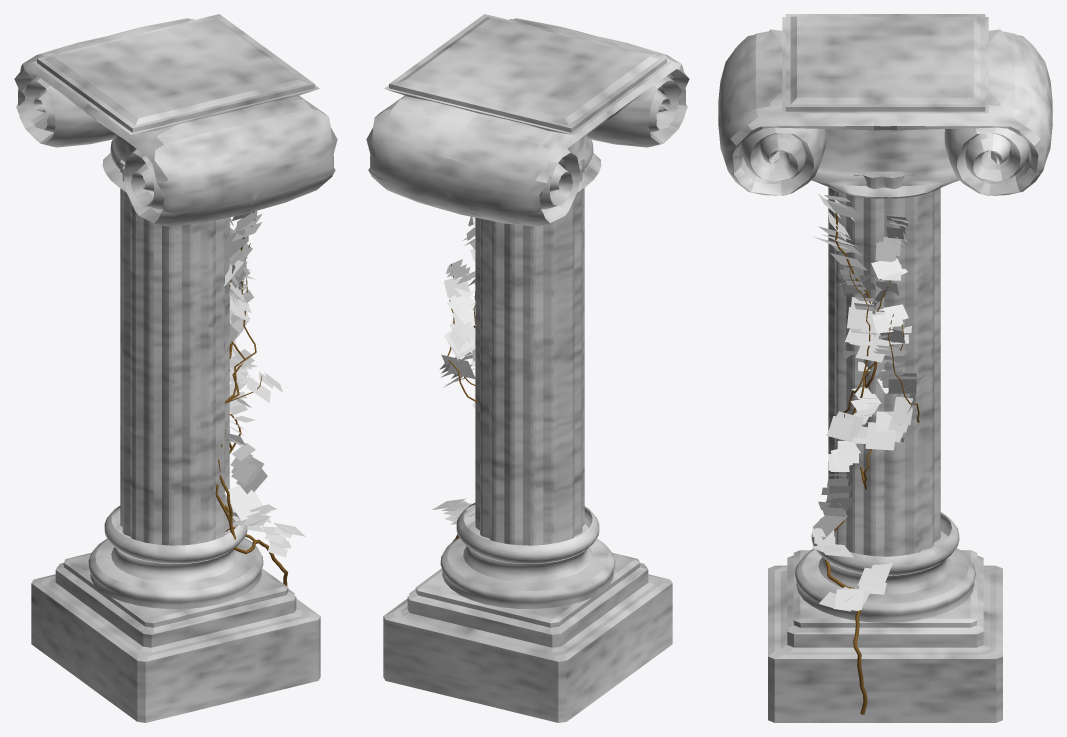
Rendered from column.fbx.
The picture shows the model from 3 angles, left to right: view 1: azimuth 30°, elevation 25°; view 2: azimuth 150°, elevation 25°; view 3: azimuth 270°, elevation 25°; orthographic projection. The views are drawn at different scales.
Parts seen in each view (by area): view 1: Cube, IvyLeaf, IVY_Curve; view 2: Cube, IvyLeaf; view 3: Cube, IvyLeaf, IVY_Curve.
Boxes of the visible parts, bbox=[...] form: Cube: bbox=[14, 14, 337, 722]; IvyLeaf: bbox=[224, 211, 305, 557]; IVY_Curve: bbox=[215, 211, 288, 585]; Cube: bbox=[366, 14, 689, 722]; IvyLeaf: bbox=[432, 216, 475, 524]; Cube: bbox=[718, 14, 1052, 722]; IvyLeaf: bbox=[811, 193, 924, 611]; IVY_Curve: bbox=[822, 213, 919, 714].
Size of the model in its own units: 29.56 by 82.92 by 40.46.
